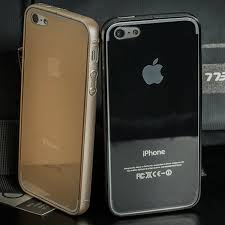iphone: (95, 9, 204, 219)
